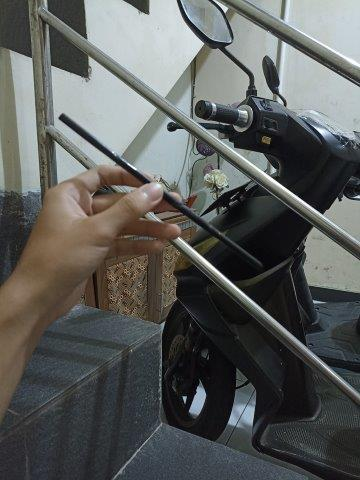sedotan: (59, 112, 262, 269)
